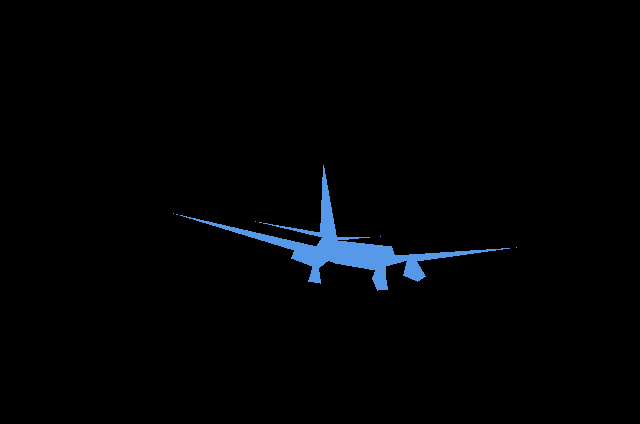Airplane: (173, 165, 517, 290)
